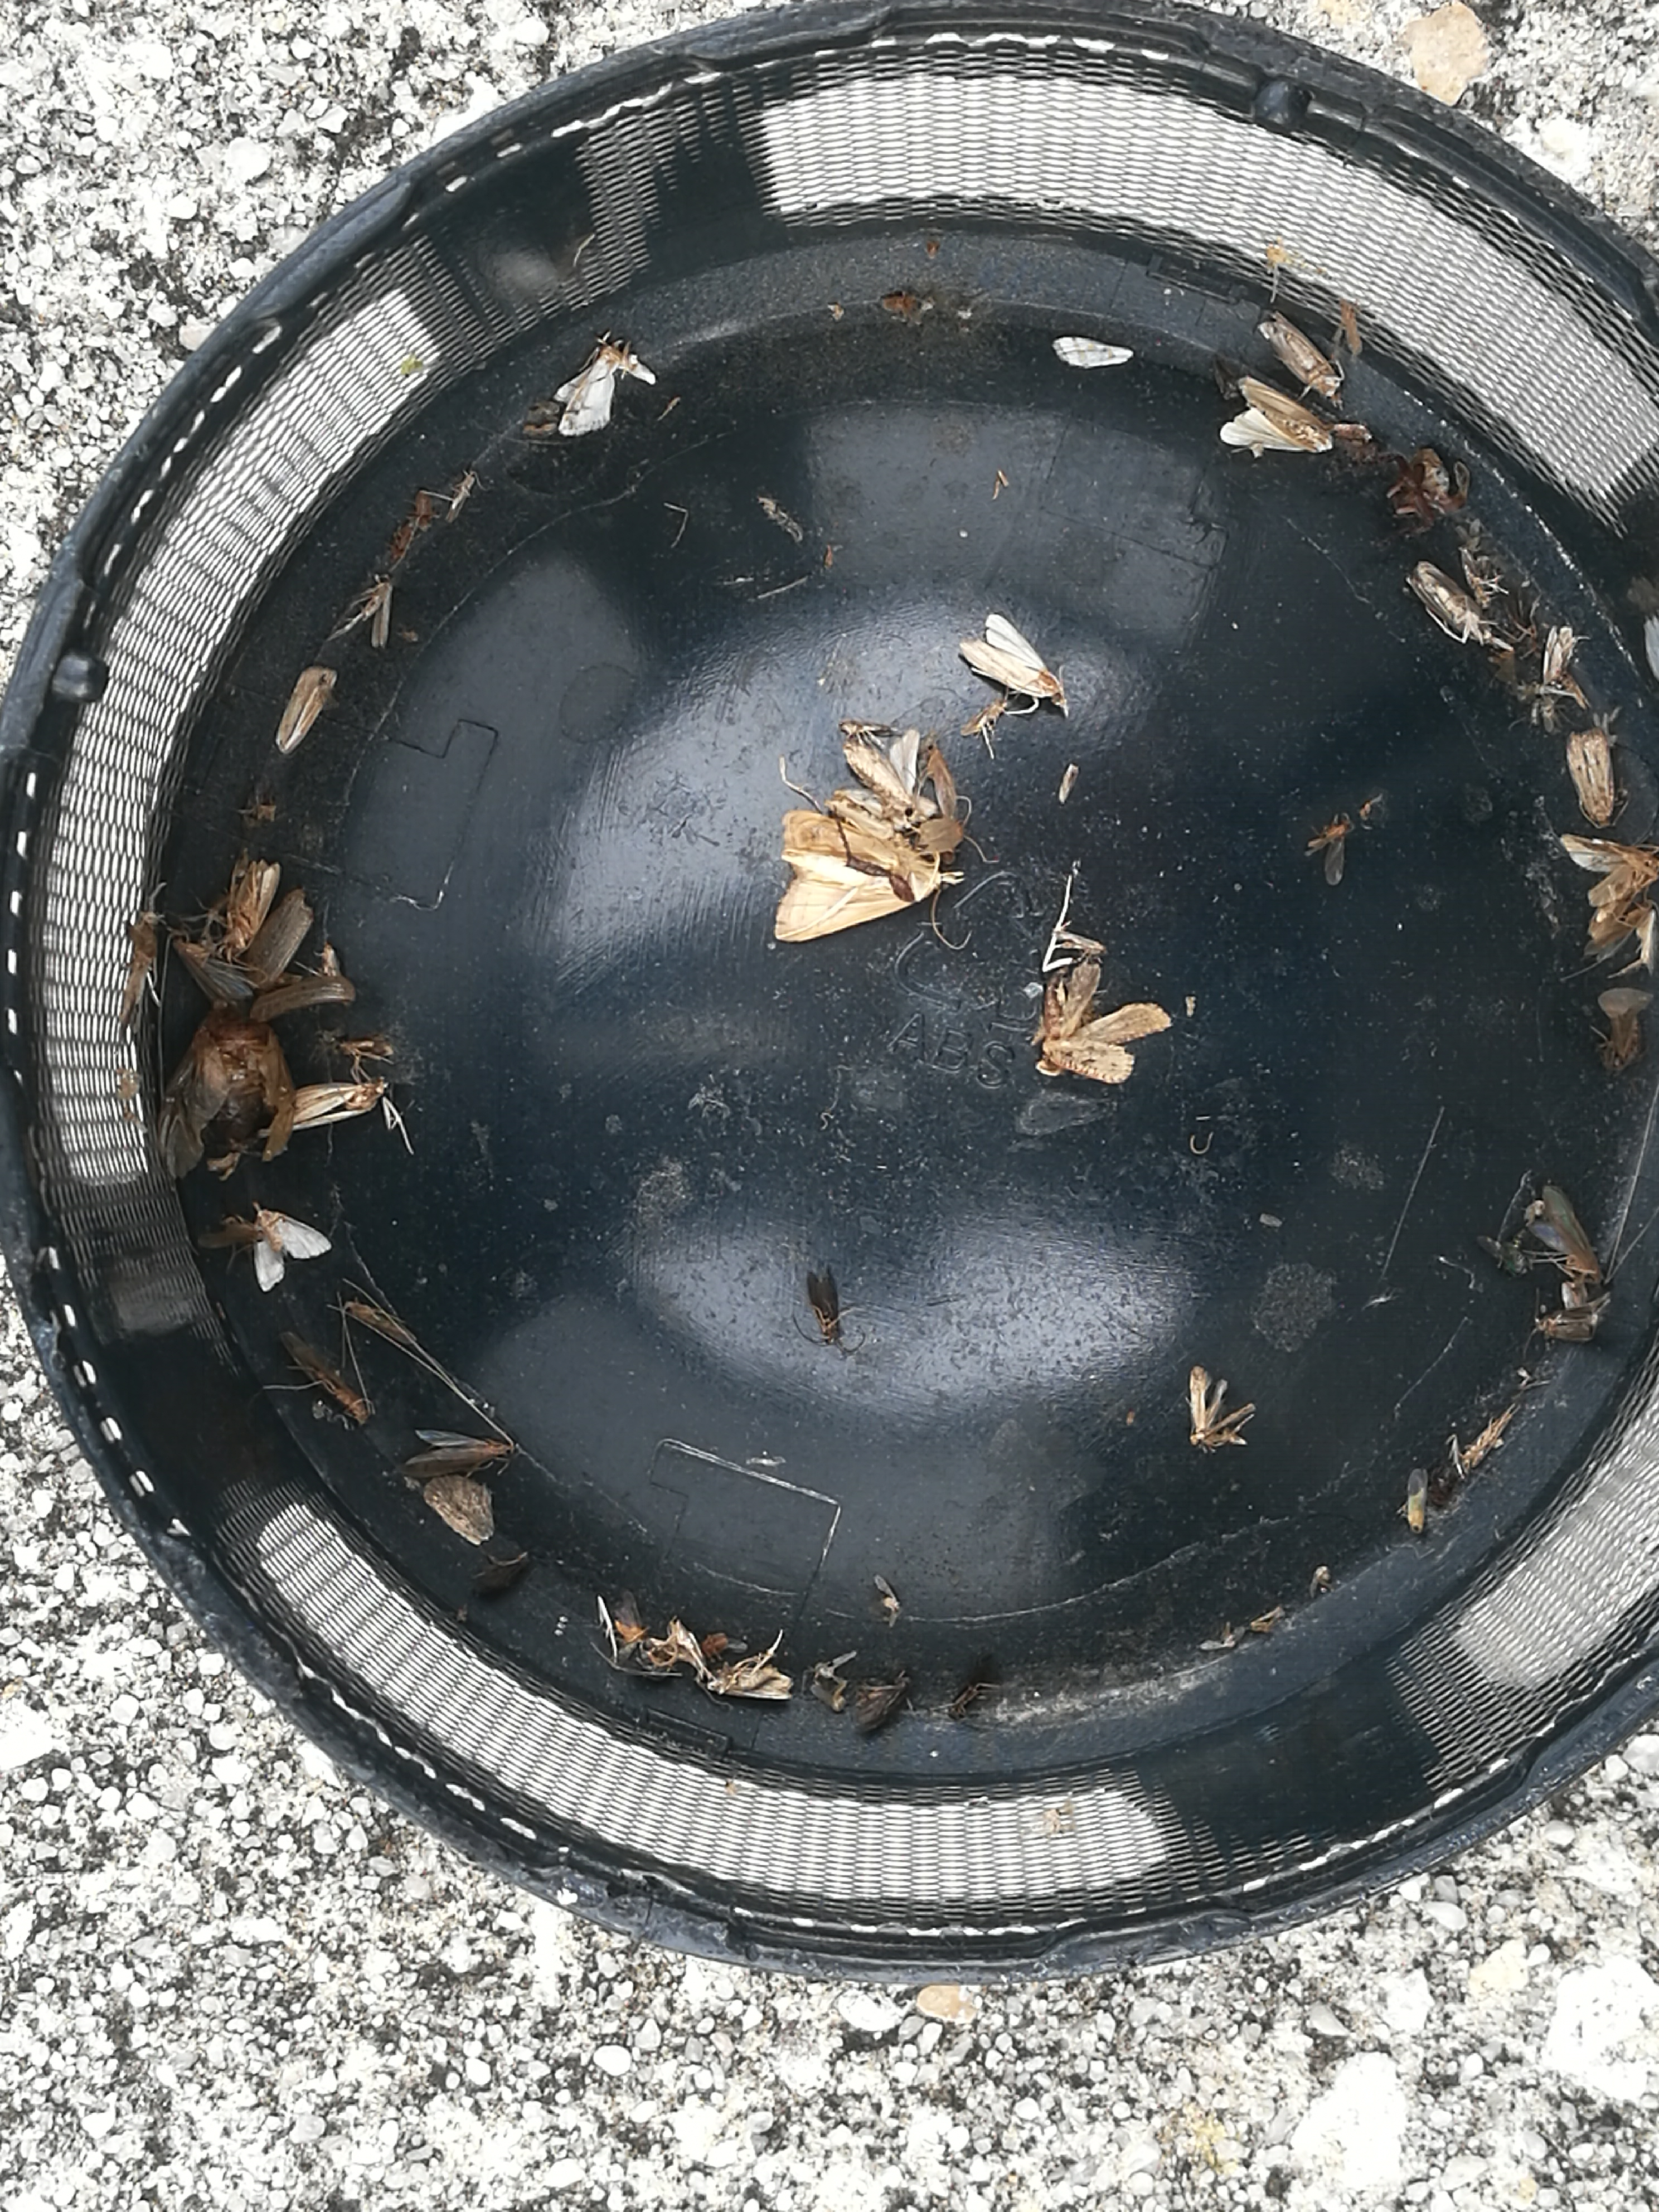beetle: (186, 1008, 282, 1148)
mosquito: (1525, 1188, 1605, 1280), (1260, 312, 1338, 395), (286, 1338, 364, 1421), (1412, 568, 1492, 643), (171, 939, 247, 1001), (401, 1432, 512, 1474), (1570, 730, 1615, 824), (295, 1083, 383, 1130), (342, 1303, 415, 1348), (1542, 624, 1572, 686), (1408, 1470, 1431, 1533)
moth: (775, 812, 943, 944), (1035, 967, 1171, 1082), (554, 341, 657, 435), (1222, 378, 1331, 449), (960, 615, 1058, 695), (1558, 833, 1659, 902), (256, 1205, 326, 1292), (227, 860, 281, 953), (708, 1669, 795, 1698)
